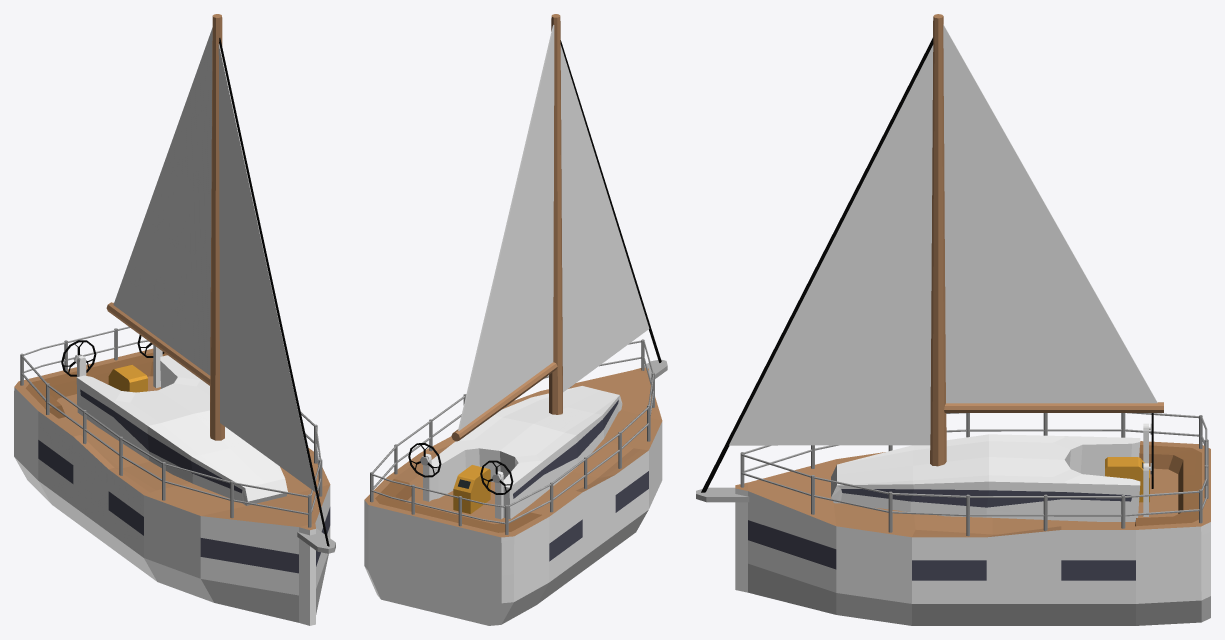
File: Yacht_02.fbx
The picture shows the model from 3 angles, left to right: view 1: azimuth 30°, elevation 25°; view 2: azimuth 150°, elevation 25°; view 3: azimuth 270°, elevation 25°; orthographic projection. The views are drawn at different scales.
Parts seen in each view (by area): view 1: Yacht_02; view 2: Yacht_02; view 3: Yacht_02.
Part boxes in pixels (x1,y1,x2,y2): Yacht_02: [14, 14, 335, 625]; Yacht_02: [364, 14, 667, 625]; Yacht_02: [696, 14, 1210, 625].
Bounding box in the file's own units: 376 × 1126 × 918.
